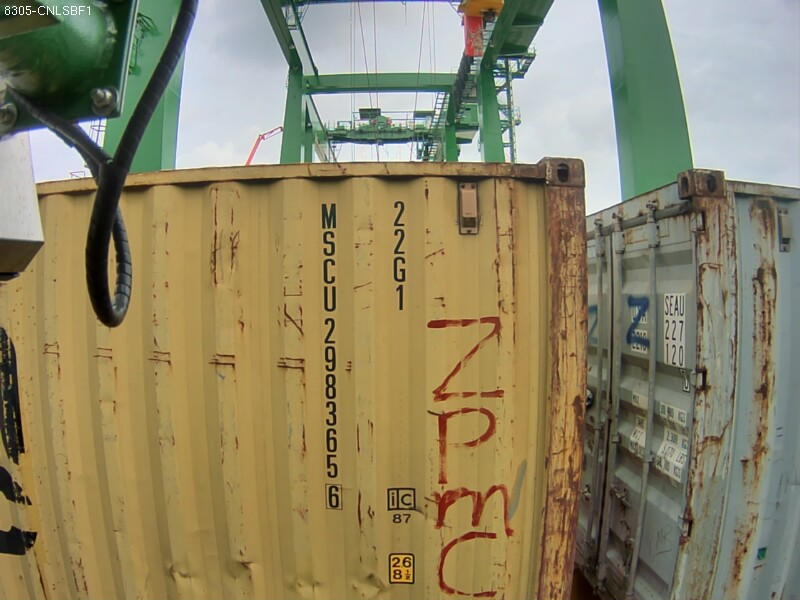container_no_door: (196, 154, 589, 599)
